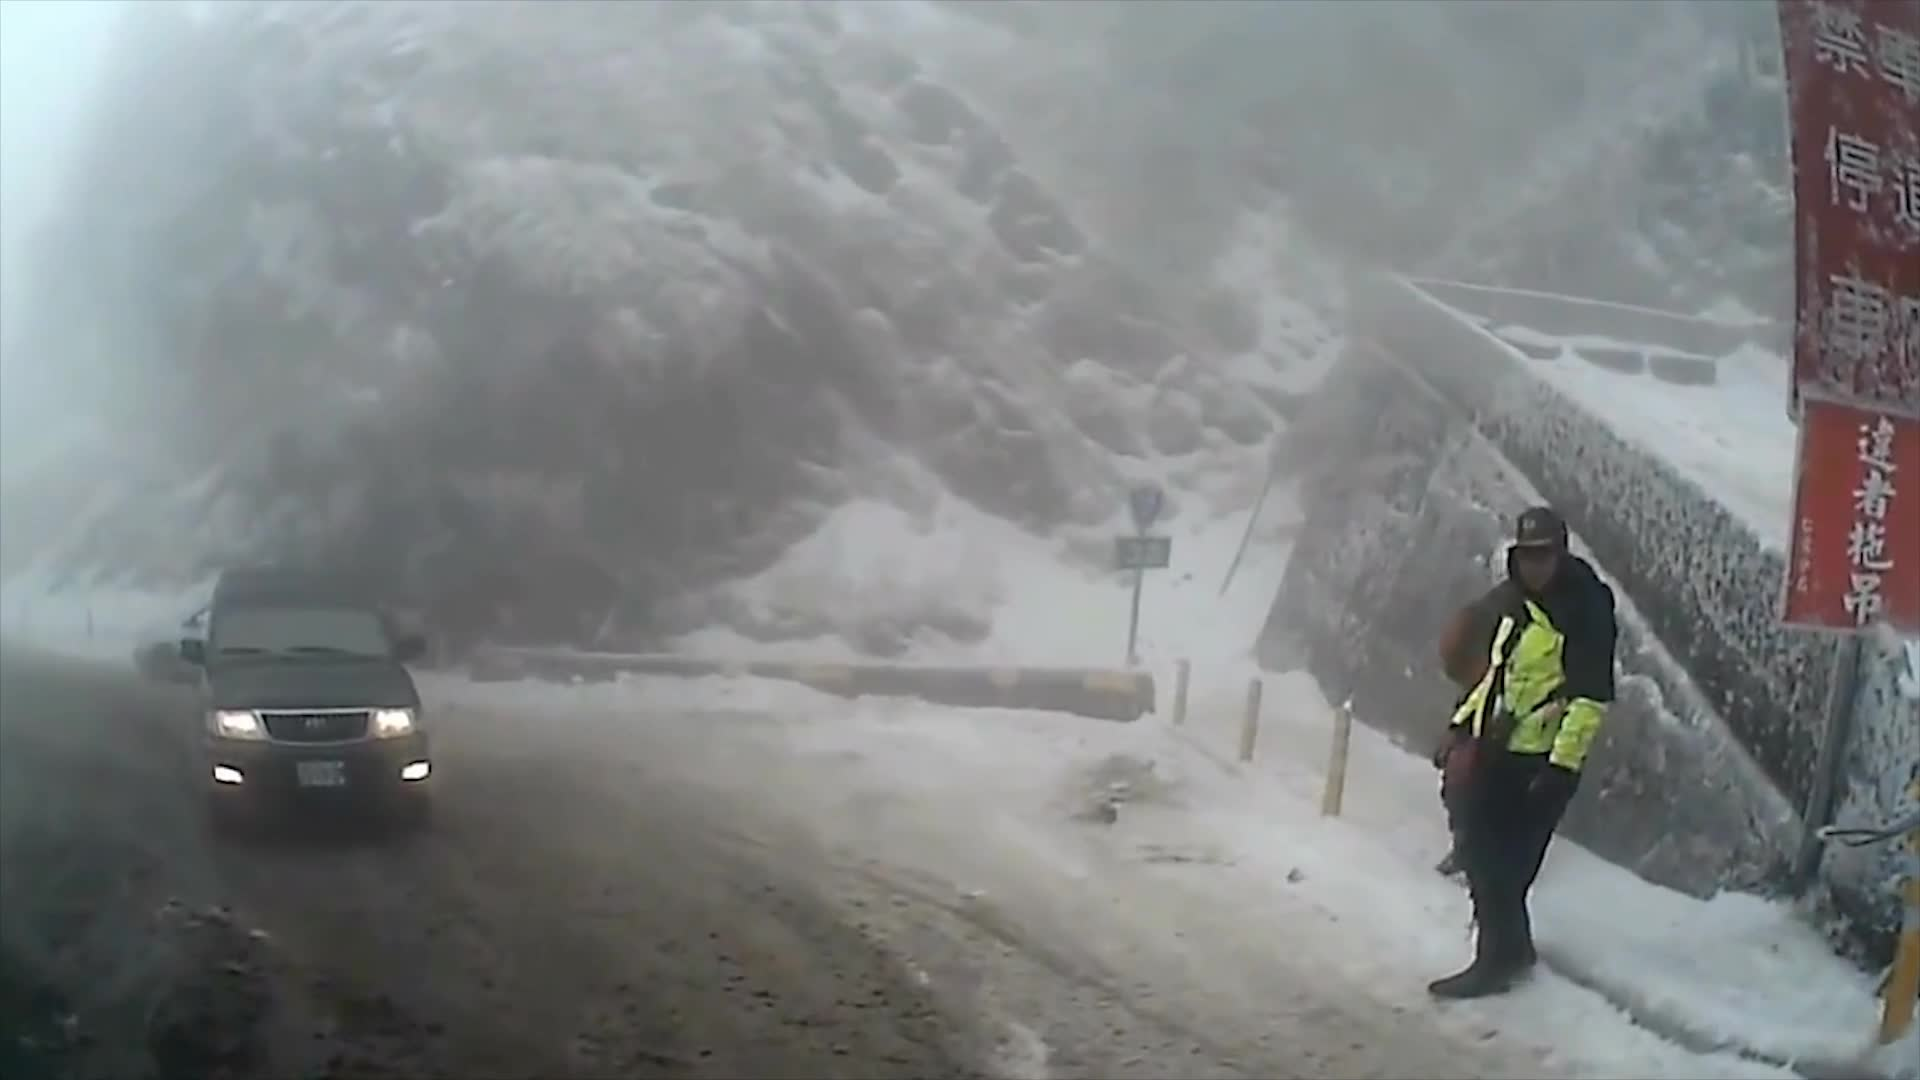pedestrian: (1422, 510, 1615, 1009), (1436, 546, 1568, 878)
vehicle: (175, 573, 431, 842)
